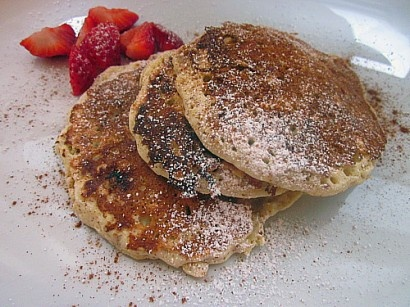background: (12, 3, 255, 133)
